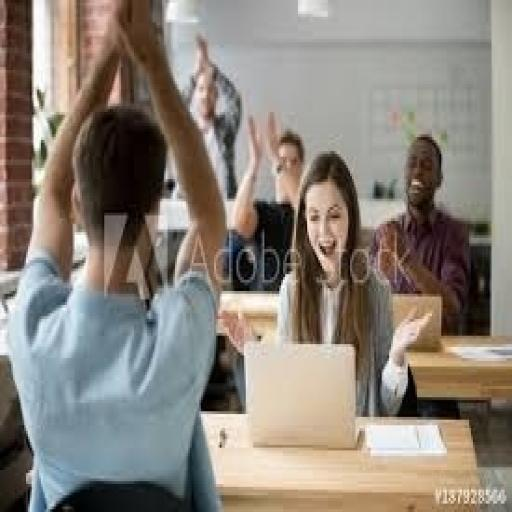clapping: (6, 0, 227, 509), (365, 132, 473, 336), (229, 109, 307, 291)
